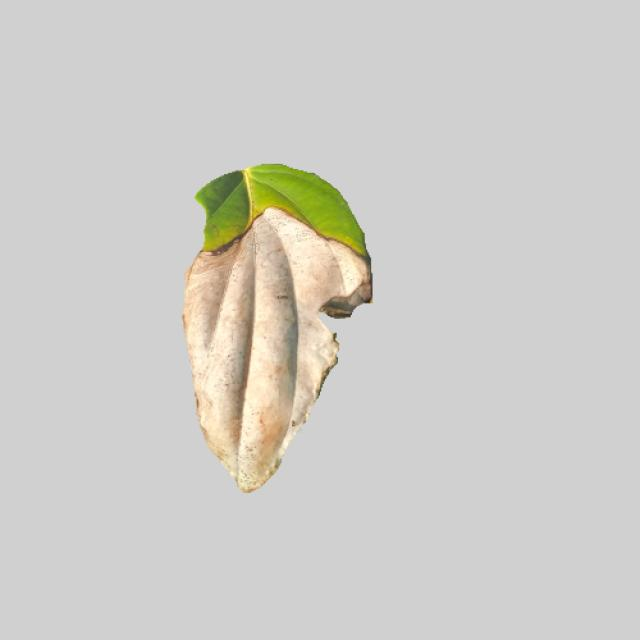leaf-blight: (170, 164, 379, 490)
